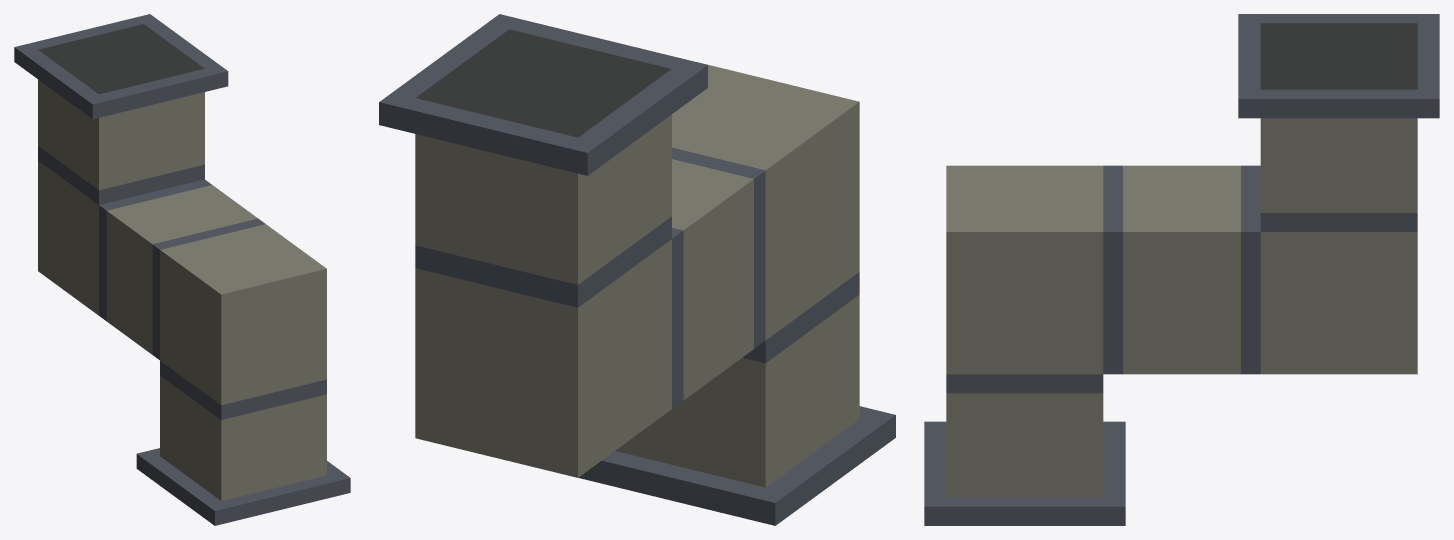
File: vent2.FBX
3 views of the same model, side by side, from view 1: azimuth 30°, elevation 25°; view 2: azimuth 150°, elevation 25°; view 3: azimuth 270°, elevation 25° (orthographic). The views are drawn at different scales.
Parts seen in each view (by area): view 1: vent2; view 2: vent2; view 3: vent2.
Part boxes in pixels (bbox=[...]): vent2: bbox=[14, 14, 350, 525]; vent2: bbox=[379, 14, 895, 525]; vent2: bbox=[924, 14, 1439, 525].
Bounding box in the file's own units: 1.28 × 3 × 3.28.
